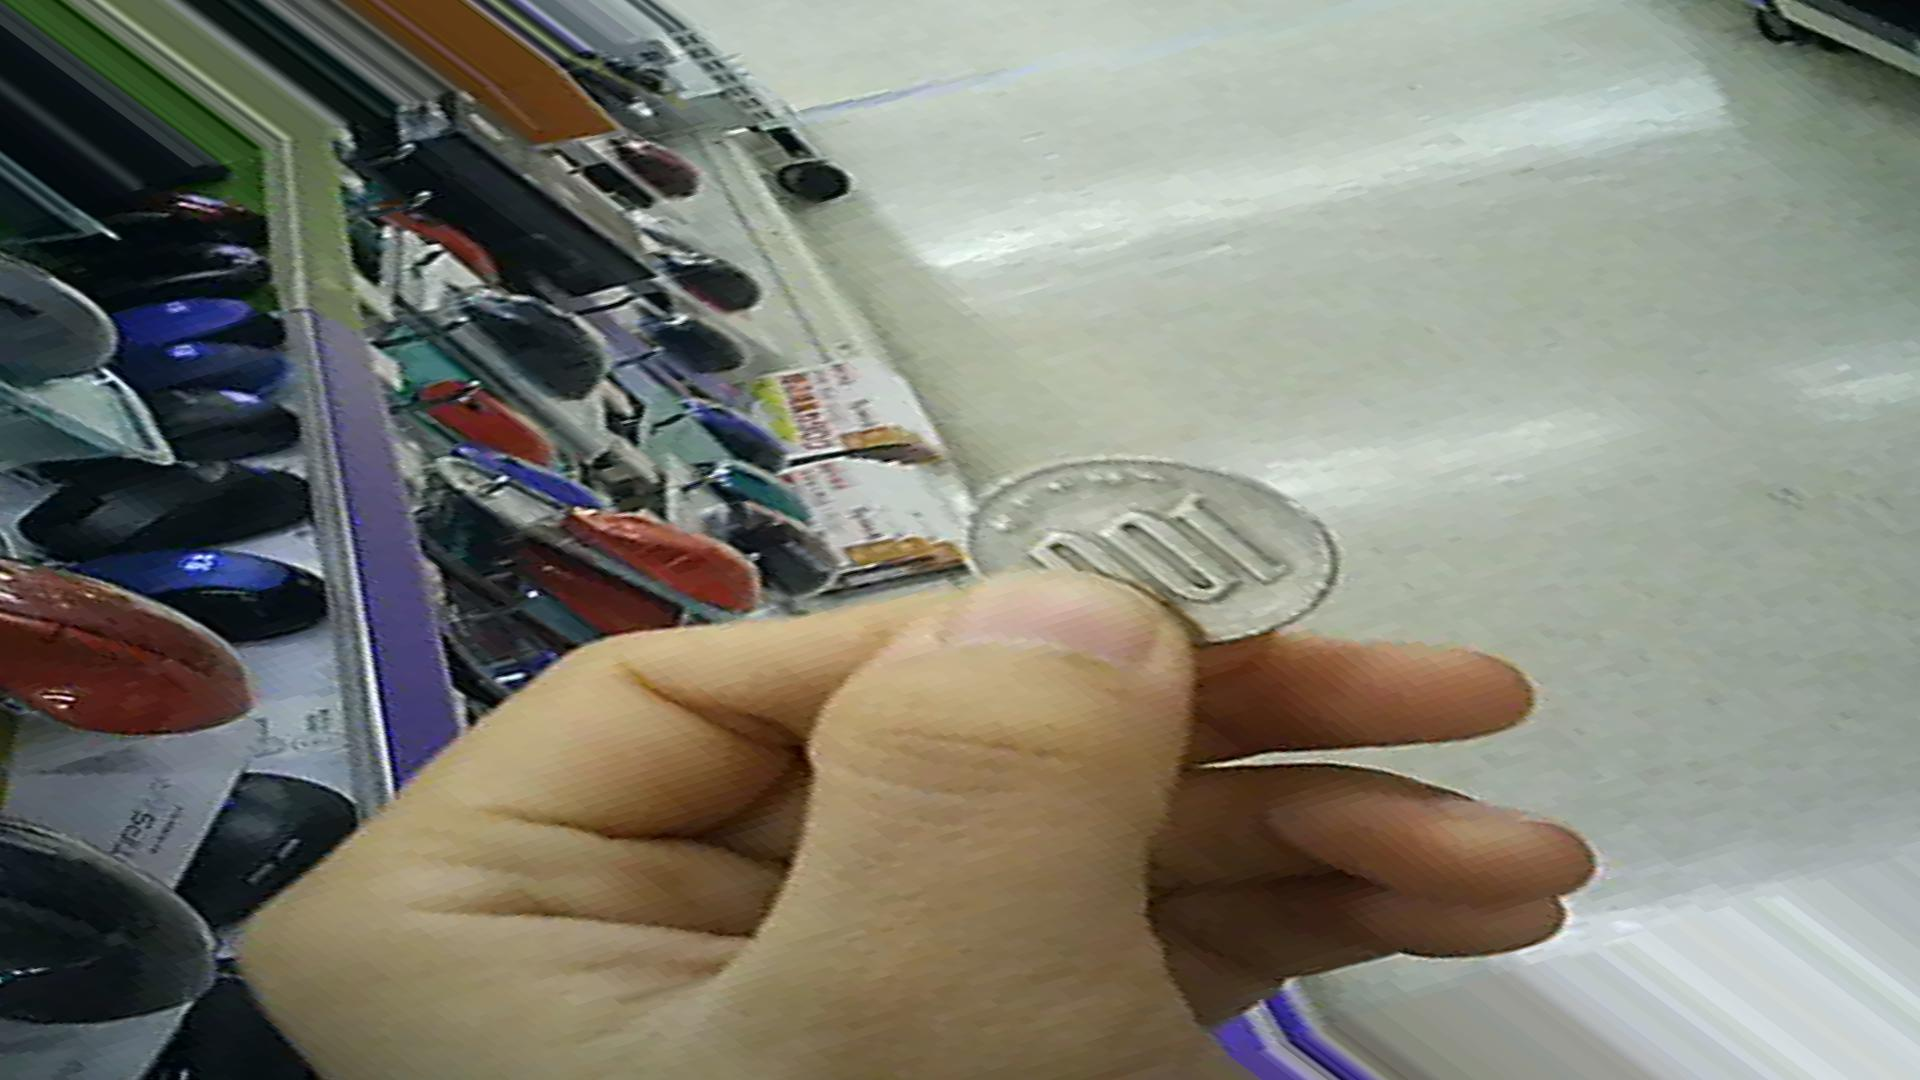100 Yen: (960, 462, 1353, 658)
